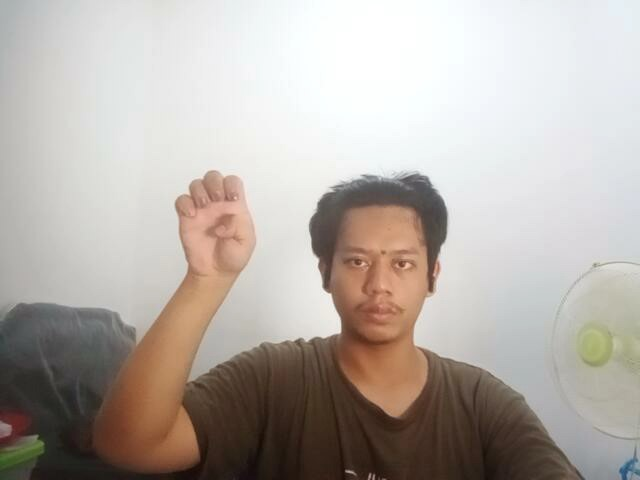E: (157, 162, 274, 284)
